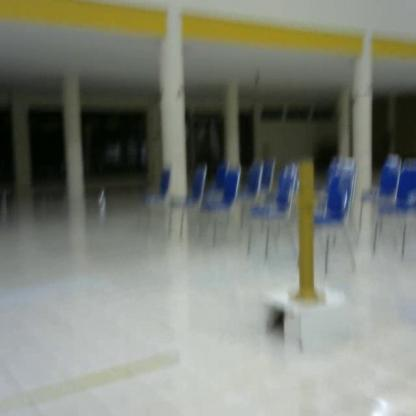pole: (287, 157, 333, 312)
